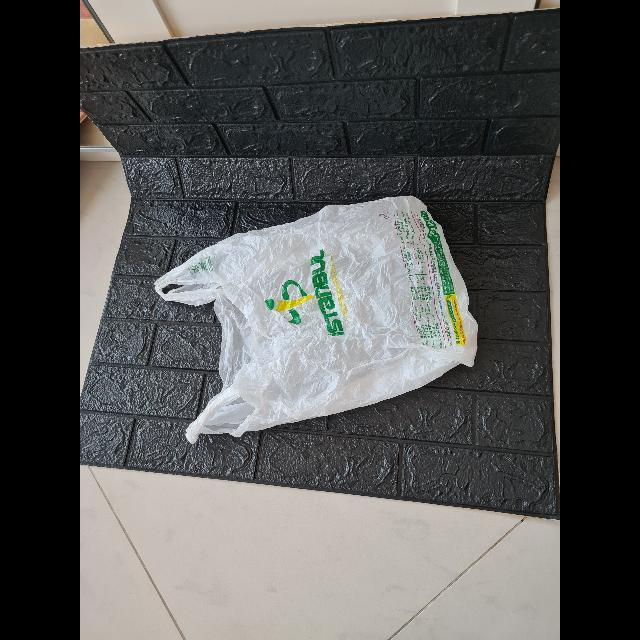plastic_bag: (135, 186, 493, 450)
